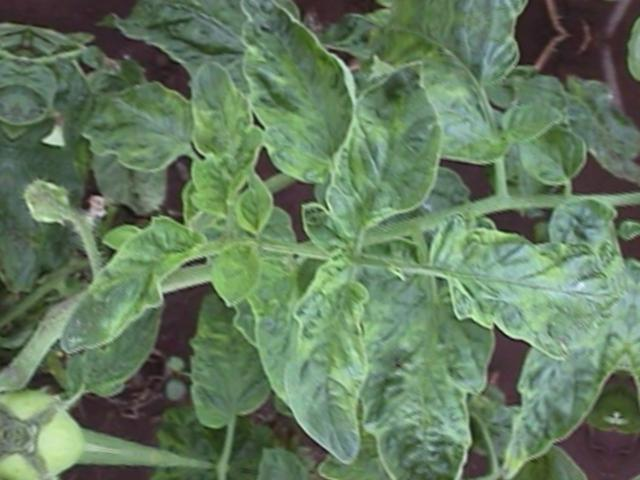Tomato leaf mosaic virus: (204, 0, 363, 194), (423, 219, 618, 363), (317, 52, 452, 256), (56, 207, 204, 378), (268, 260, 387, 470), (366, 309, 478, 480), (174, 58, 269, 222), (66, 75, 200, 178), (204, 235, 264, 313), (496, 93, 560, 148)
